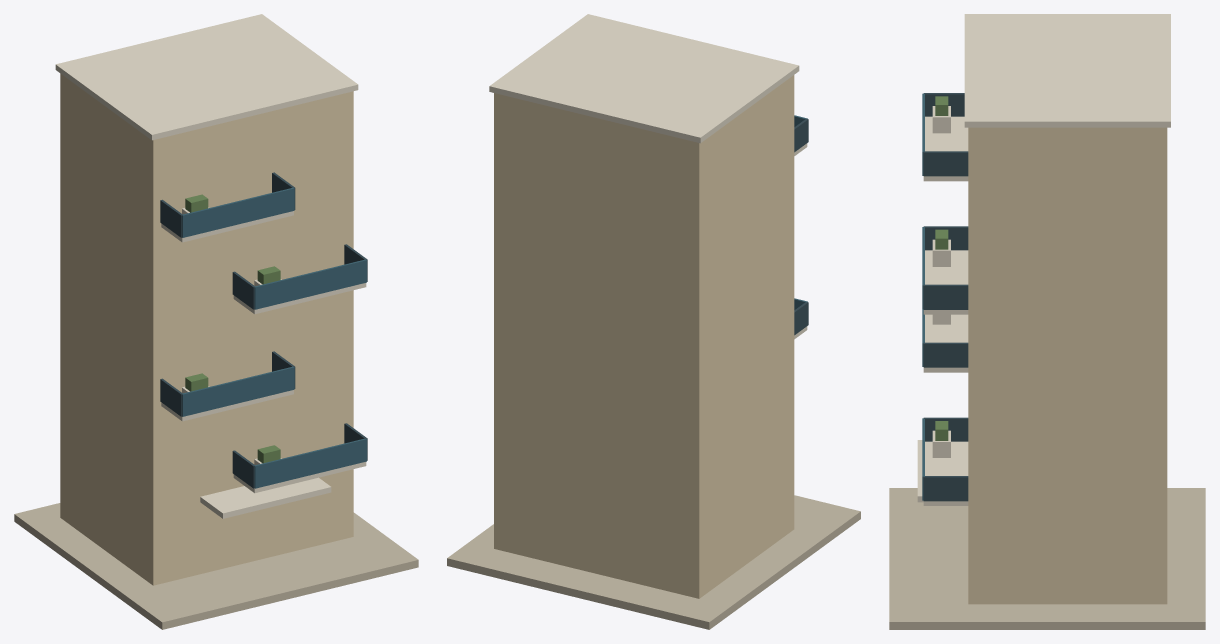
File: apartment_lod.glb
3 views of the same model, side by side, from view 1: azimuth 30°, elevation 25°; view 2: azimuth 150°, elevation 25°; view 3: azimuth 270°, elevation 25° (orthographic). The views are drawn at different scales.
Parts seen in each view (by area): view 1: apartment_Building_Volume, apartment_Roof_Coping, apartment_Site_Paving, apartment_Balcony_Glass.003, apartment_Balcony_Glass.002, apartment_Balcony_Glass, apartment_Balcony_Glass.001, apartment_Entrance_Canopy, apartment_Balcony_Slab, apartment_Balcony_Slab.002, apartment_Balcony_Slab.003, apartment_Balcony_Slab.001 (+4 smaller); view 2: apartment_Building_Volume, apartment_Roof_Coping, apartment_Site_Paving; view 3: apartment_Building_Volume, apartment_Roof_Coping, apartment_Site_Paving, apartment_Balcony_Slab.003, apartment_Balcony_Slab.002, apartment_Balcony_Slab, apartment_Balcony_Slab.001, apartment_Balcony_Rail.003, apartment_Balcony_Rail.005, apartment_Balcony_Rail.007, apartment_Balcony_Rail.001, apartment_Balcony_Rail (+2 smaller).
Boxes of the visible parts, bbox=[...] form: apartment_Building_Volume: bbox=[60, 73, 353, 585]; apartment_Roof_Coping: bbox=[55, 14, 358, 140]; apartment_Site_Paving: bbox=[14, 503, 418, 629]; apartment_Balcony_Glass.003: bbox=[182, 187, 294, 237]; apartment_Balcony_Glass.002: bbox=[254, 259, 366, 309]; apartment_Balcony_Glass: bbox=[254, 438, 366, 488]; apartment_Balcony_Glass.001: bbox=[182, 366, 294, 416]; apartment_Entrance_Canopy: bbox=[200, 477, 331, 518]; apartment_Balcony_Slab: bbox=[233, 462, 366, 493]; apartment_Balcony_Slab.002: bbox=[233, 283, 366, 314]; apartment_Balcony_Slab.003: bbox=[161, 211, 293, 242]; apartment_Balcony_Slab.001: bbox=[161, 390, 293, 421]; apartment_Building_Volume: bbox=[494, 75, 794, 598]; apartment_Roof_Coping: bbox=[489, 14, 799, 143]; apartment_Site_Paving: bbox=[447, 495, 860, 629]; apartment_Building_Volume: bbox=[968, 127, 1167, 604]; apartment_Roof_Coping: bbox=[964, 14, 1170, 127]; apartment_Site_Paving: bbox=[889, 488, 1205, 629]; apartment_Balcony_Slab.003: bbox=[923, 116, 968, 181]; apartment_Balcony_Slab.002: bbox=[923, 250, 968, 314]; apartment_Balcony_Slab: bbox=[923, 441, 968, 505]; apartment_Balcony_Slab.001: bbox=[923, 314, 968, 372]; apartment_Balcony_Rail.003: bbox=[923, 342, 968, 367]; apartment_Balcony_Rail.005: bbox=[923, 284, 968, 309]; apartment_Balcony_Rail.007: bbox=[923, 151, 968, 176]; apartment_Balcony_Rail.001: bbox=[923, 476, 968, 501]; apartment_Balcony_Rail: bbox=[923, 417, 968, 441].
Bounding box in the file's own units: 7.8 × 13.46 × 7.8.
